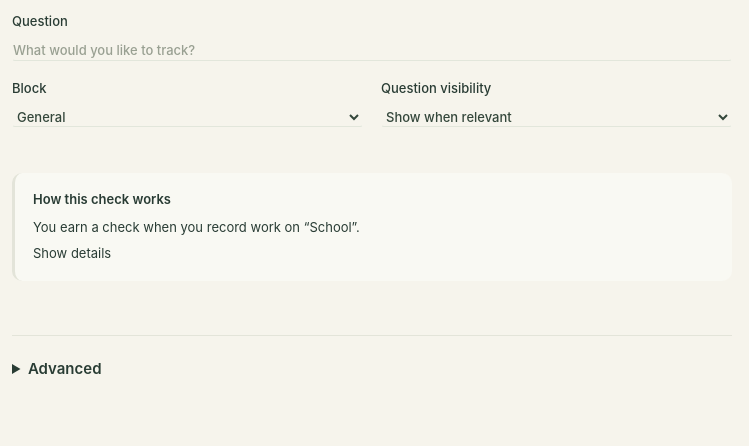
Test: updates connected-list visibility and destination schedule in the same form
Expected: the element "How this check works" shows "record work on “School”", [33,219,360,235]
Step 1. Click the button "Show details" → x=72, y=254, box [33,243,111,265]
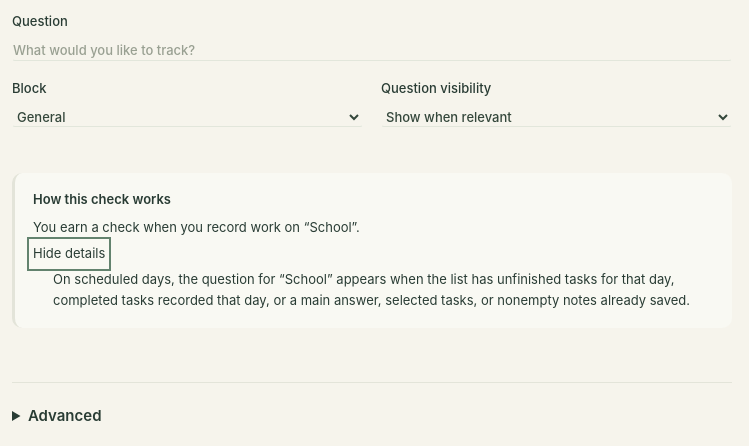
Now the element "How this check works" shows "unfinished tasks for that day", box [53,271,690,308]
Step 2. Select "Always show on scheduled days" in the dropdown labelled "Question visibility" → x=556, y=116, box [381,106,732,126]
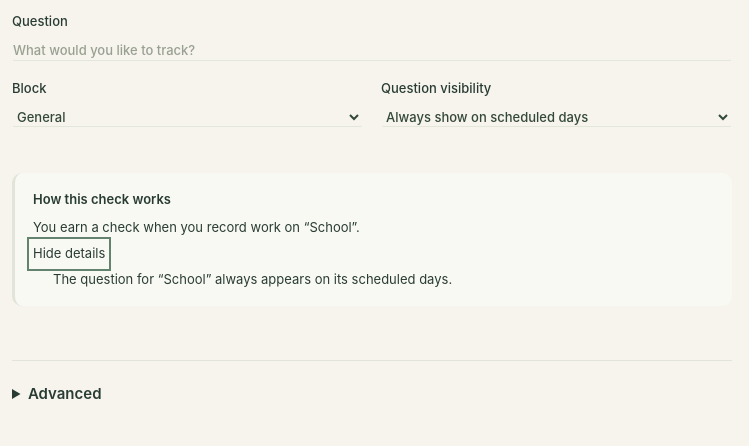
Now the element "How this check works" shows "always appears on its scheduled days", box [53,271,452,287]
Step 3. Select "Weekend" in the dropdown labelled "Block" → x=188, y=116, box [12,106,363,126]
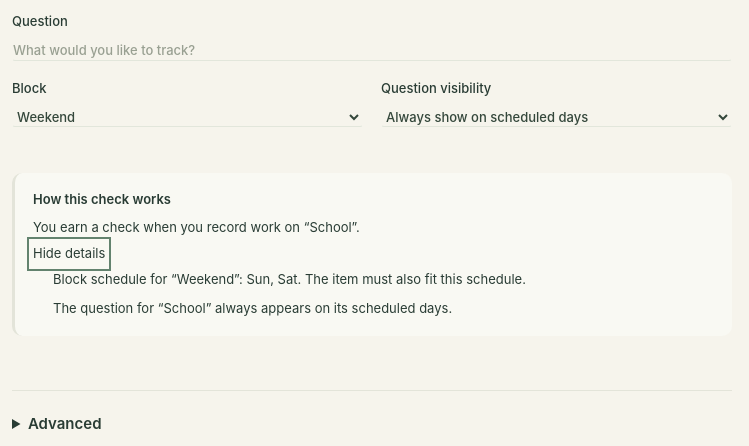
Now the element "How this check works" shows "Block schedule for “Weekend”: Sun, Sat", box [53,271,526,287]
